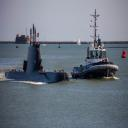submarine: (6, 25, 72, 84)
